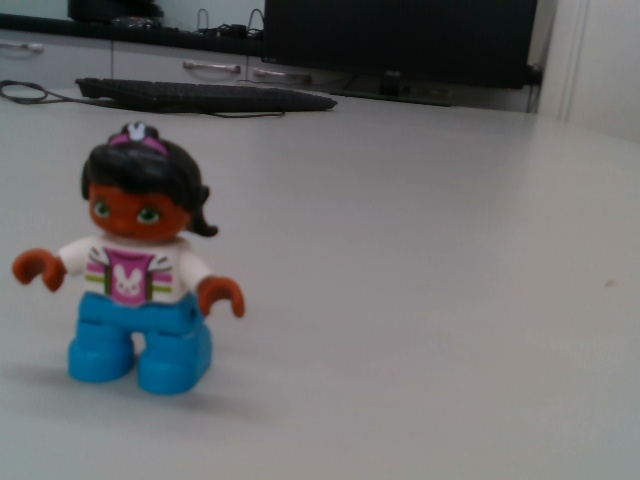people: (10, 120, 248, 397)
